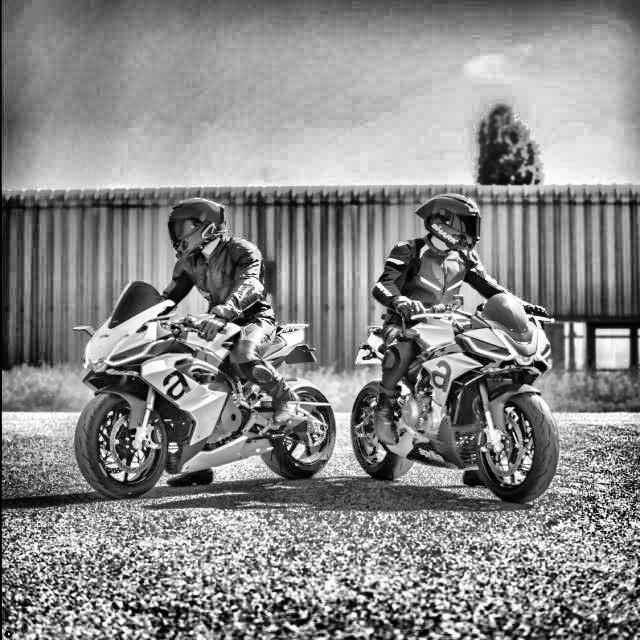Helmet: (410, 191, 486, 255), (164, 194, 234, 262)
